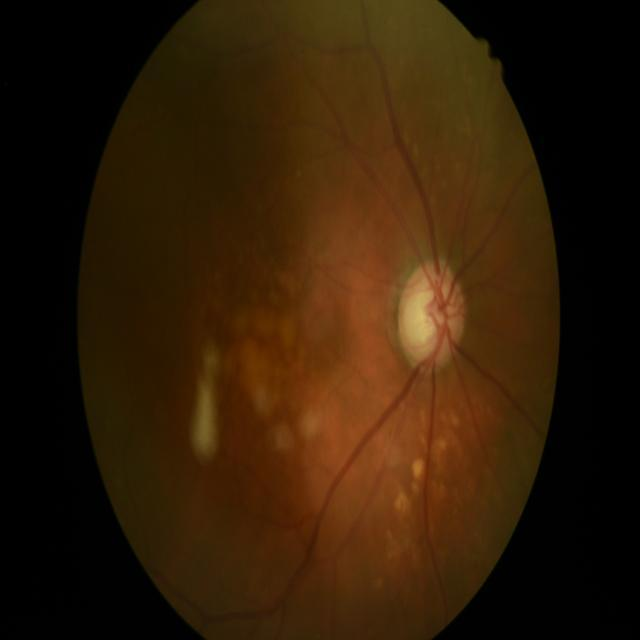cup: (406, 278, 454, 360)
disk: (398, 257, 466, 375)
